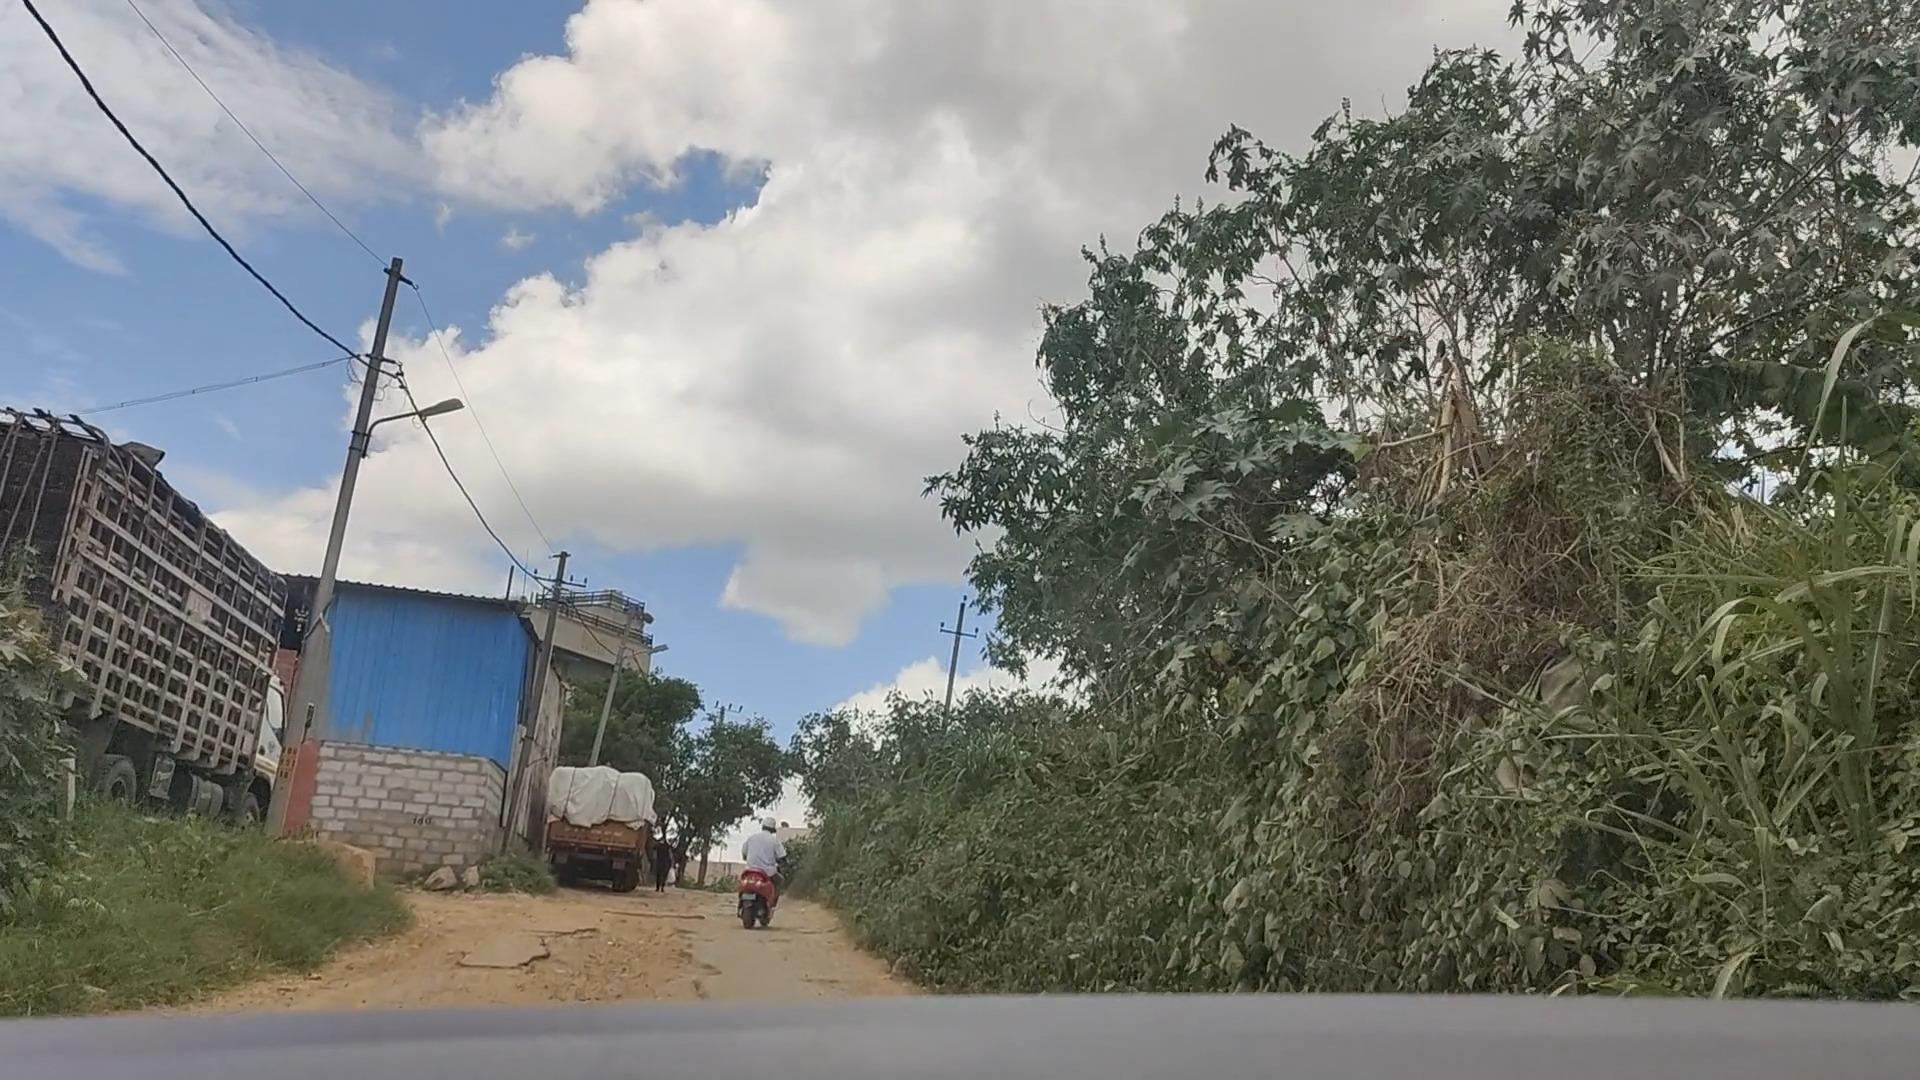HMV: (535, 753, 657, 902)
RoadDamages: (451, 906, 765, 1006)
